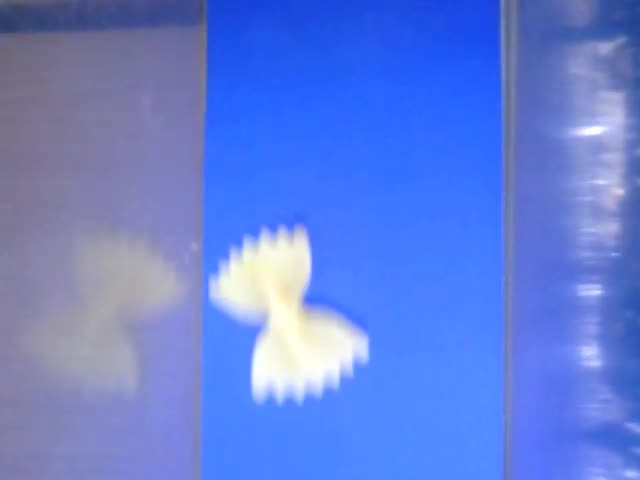farfalle: (209, 222, 373, 403)
